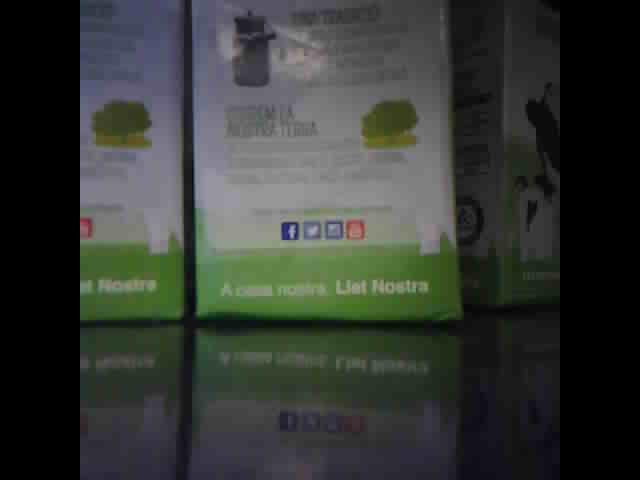leche: (196, 4, 458, 318), (80, 2, 183, 323), (456, 4, 560, 306)
